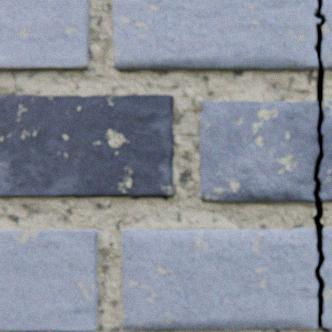brick: (0, 95, 175, 197), (0, 229, 99, 331), (0, 0, 90, 71)
broken_brick: (123, 228, 317, 330), (114, 0, 319, 71), (200, 100, 318, 202), (319, 101, 331, 201), (320, 228, 331, 328), (321, 0, 331, 70)
crack: (313, 0, 330, 331)
